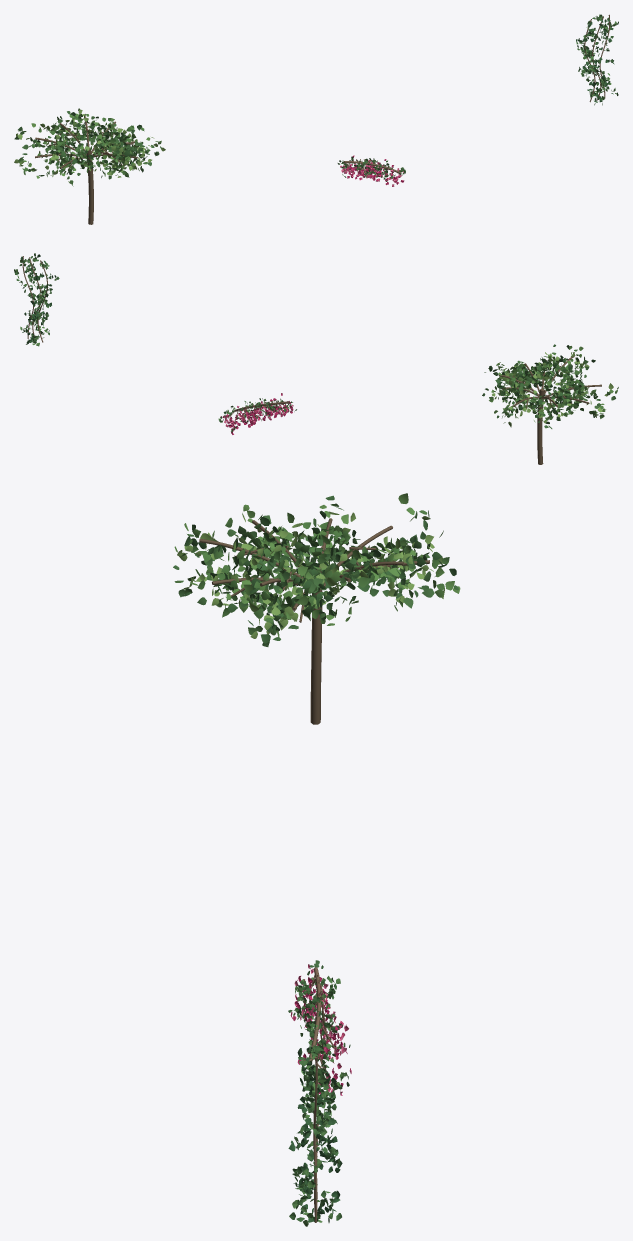
Rendered from nature.glb.
The picture shows the model from 3 angles, top to bottom: view 1: azimuth 30°, elevation 25°; view 2: azimuth 150°, elevation 25°; view 3: azimuth 270°, elevation 25°; orthographic projection. The views are drawn at different scales.
Visible parts, largest first — view 1: Canopy, Vine, Bougainvillea; view 2: Canopy, Vine, Bougainvillea; view 3: Canopy, Vine, Bougainvillea.
Boxes of the visible parts, bbox=[...] form: Canopy: bbox=[14, 108, 165, 224]; Vine: bbox=[576, 14, 618, 105]; Bougainvillea: bbox=[337, 155, 405, 186]; Canopy: bbox=[482, 344, 618, 464]; Vine: bbox=[14, 253, 59, 346]; Bougainvillea: bbox=[218, 393, 296, 434]; Canopy: bbox=[173, 493, 460, 724]; Vine: bbox=[288, 1045, 342, 1226]; Bougainvillea: bbox=[288, 960, 351, 1095].
Bounding box in the file's own units: 28.12 × 6.19 × 5.92.
